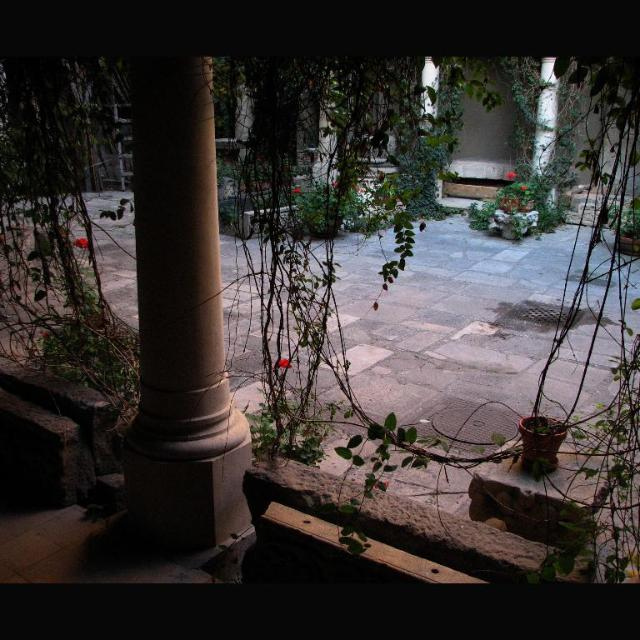Flower: (74, 237, 88, 250), (505, 172, 515, 180), (282, 356, 288, 369), (292, 190, 300, 197), (331, 182, 337, 188), (360, 187, 366, 193), (522, 184, 526, 192)
